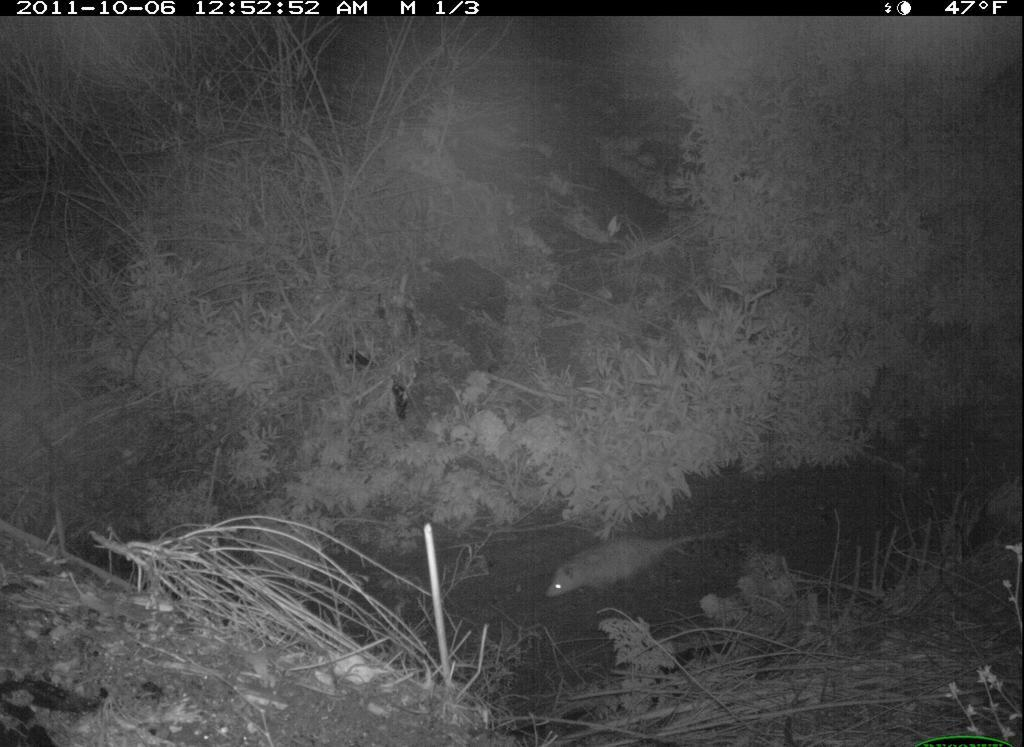opossum: (542, 521, 733, 605)
